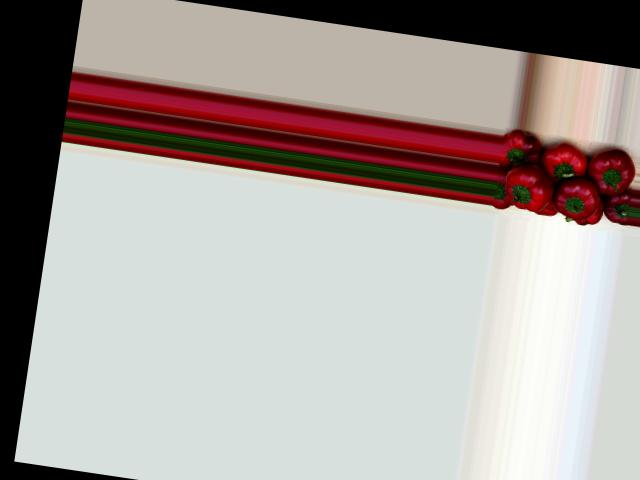bell_pepper: (537, 197, 559, 219)
